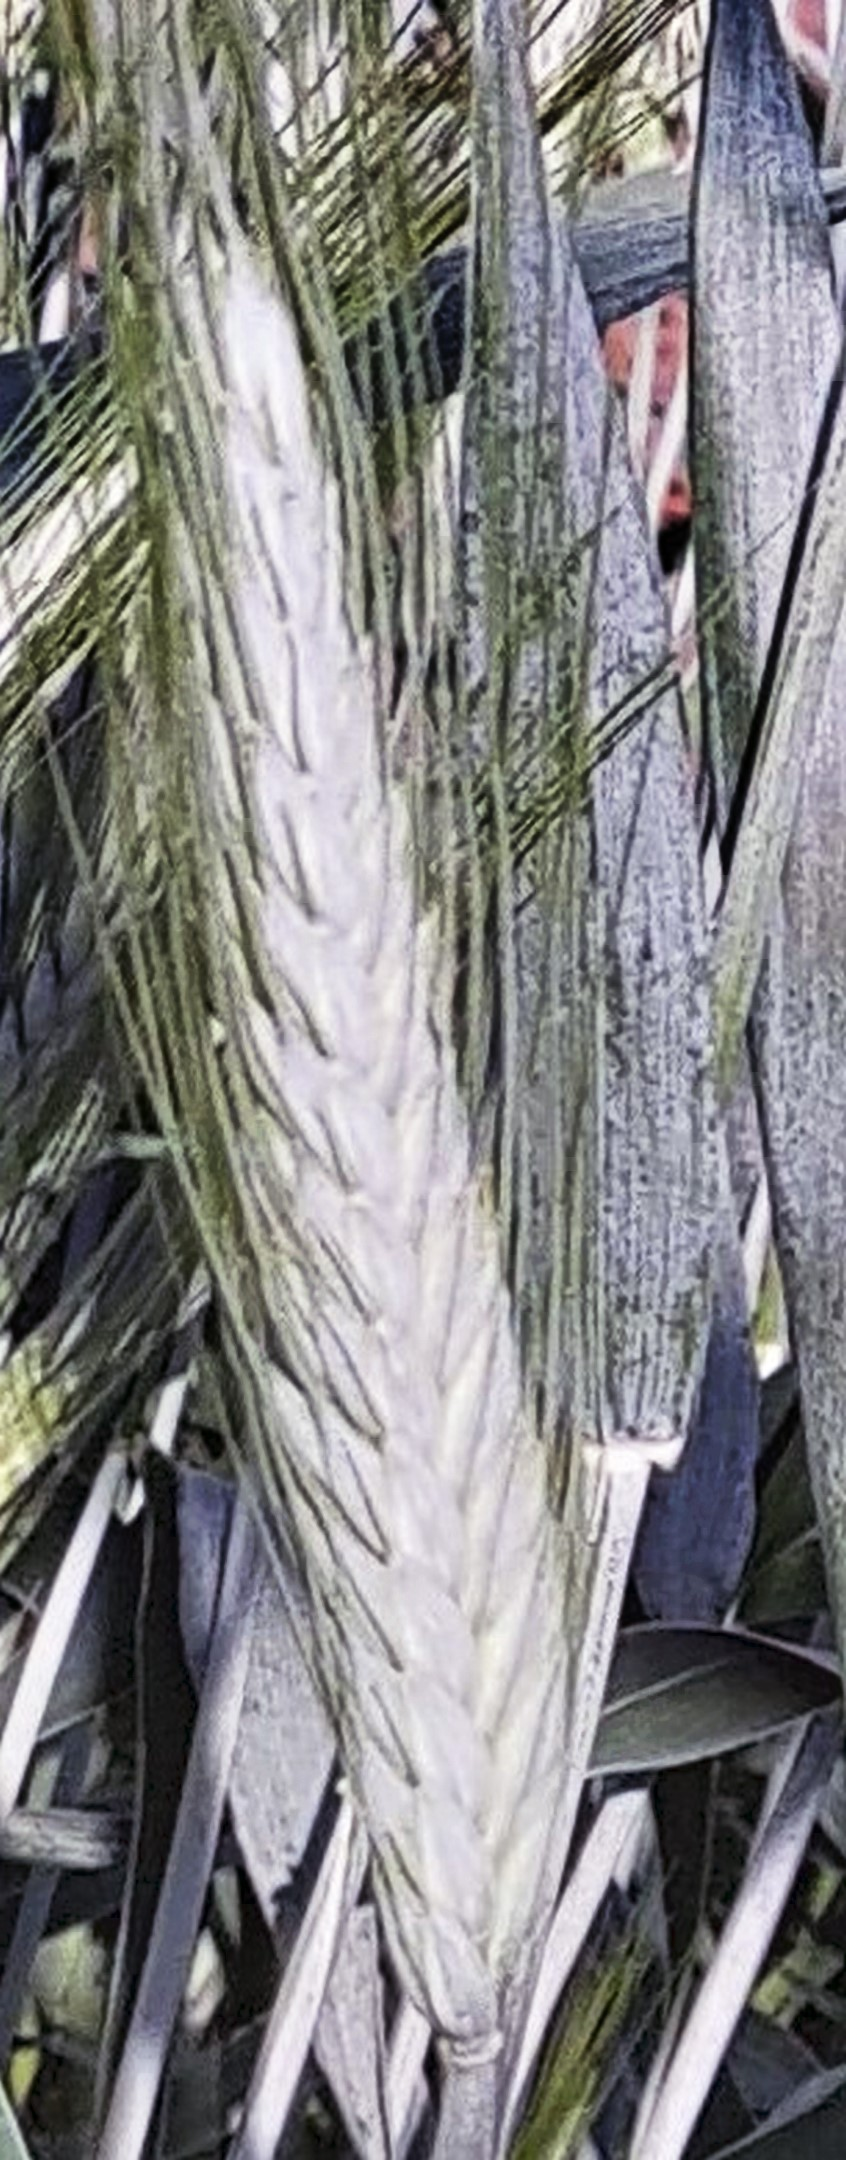Healthy Wheat: (80, 231, 619, 1975)
